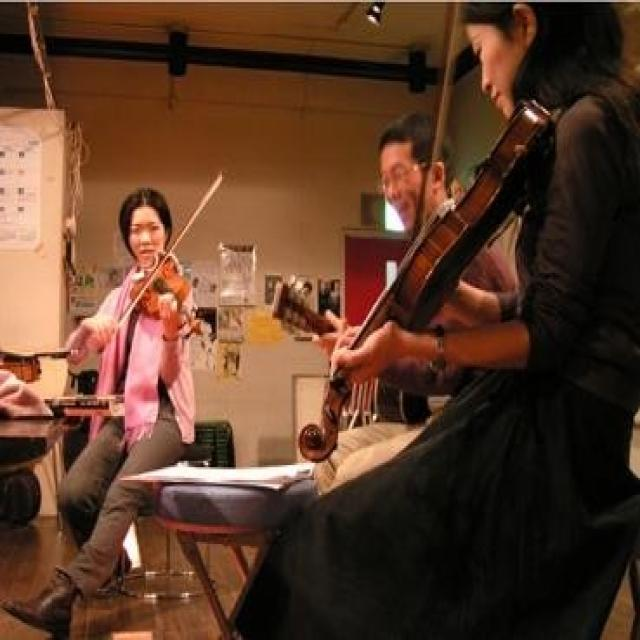violin: (293, 101, 556, 468), (128, 253, 214, 338)
